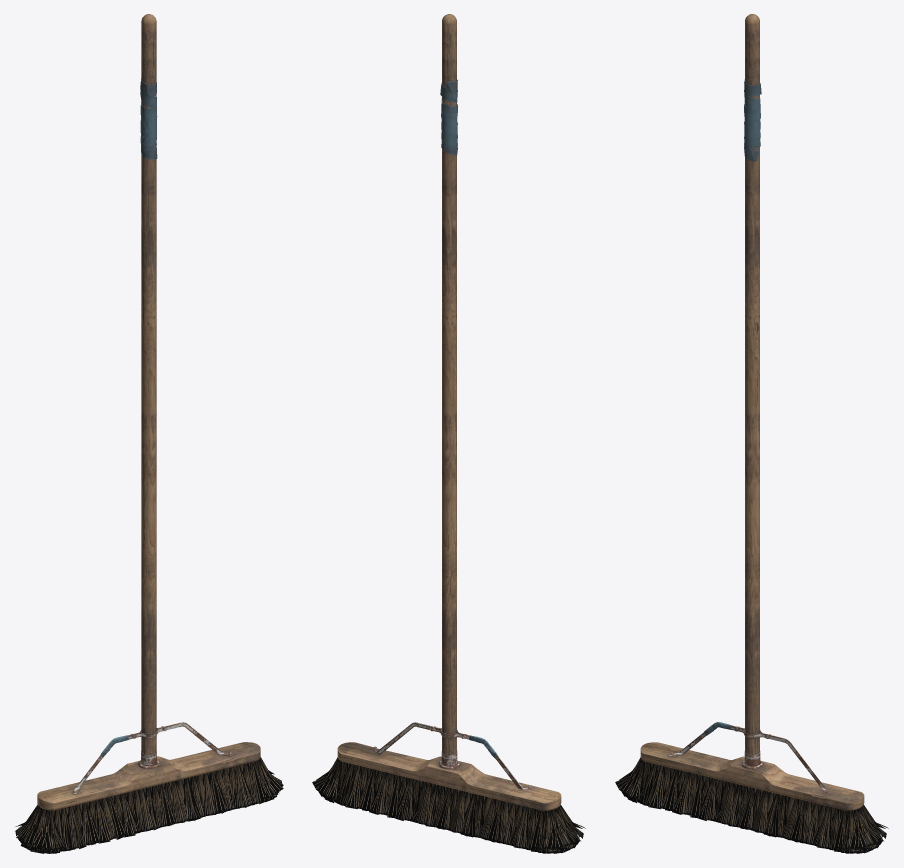
The model's file is wooden_broom.glb.
3 renders of one model, left to right at view 1: azimuth 30°, elevation 25°; view 2: azimuth 150°, elevation 25°; view 3: azimuth 330°, elevation 25°, orthographic.
Parts seen in each view (by area): view 1: wooden_broom_handle, wooden_broom_bristles, wooden_broom; view 2: wooden_broom_handle, wooden_broom_bristles, wooden_broom; view 3: wooden_broom_handle, wooden_broom_bristles, wooden_broom.
Boxes of the visible parts, x1,y1,x2,y2 form: wooden_broom_handle: [140, 14, 157, 765]; wooden_broom_bristles: [15, 757, 283, 853]; wooden_broom: [37, 722, 260, 817]; wooden_broom_handle: [440, 14, 457, 766]; wooden_broom_bristles: [312, 757, 585, 853]; wooden_broom: [337, 722, 565, 826]; wooden_broom_handle: [744, 14, 761, 766]; wooden_broom_bristles: [615, 757, 888, 853]; wooden_broom: [640, 722, 864, 826].
Bounding box in the file's own units: 0.4902 × 1.45 × 0.1125.
2 materials, 2 textured.
